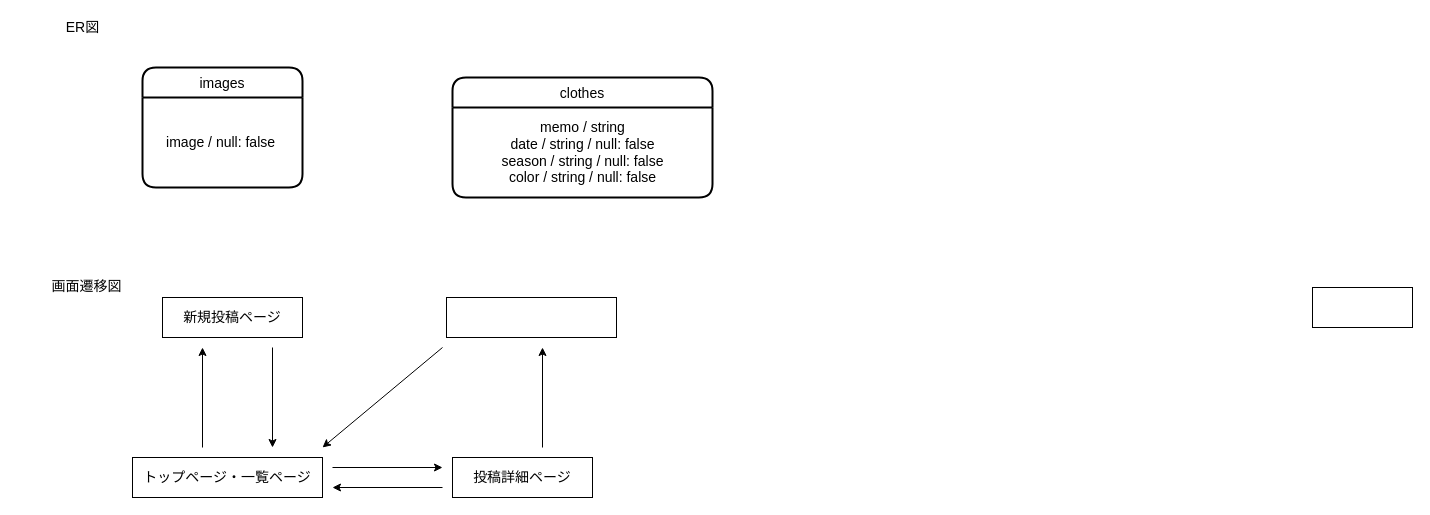
Image size: 1430x515. Some labels were removed from this diagram. The centre of each missing label's shape, as x and y in pixels:
"Entity" goes at point 1362,307.
"投稿編集・削除ページ" goes at point 531,317.
